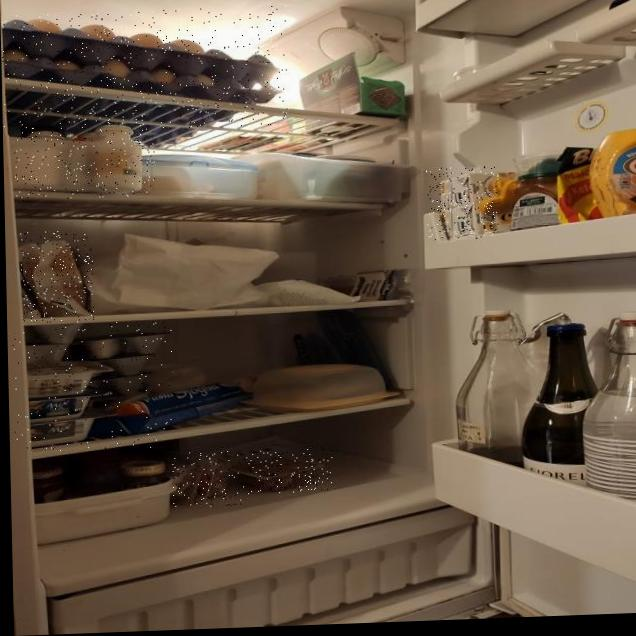bacon: (225, 448, 333, 495), (171, 450, 245, 508)
butter: (426, 166, 500, 240)
cheese: (20, 230, 94, 324)
eggs: (2, 5, 290, 135)
yoghurt: (12, 320, 174, 454), (13, 105, 156, 201)
